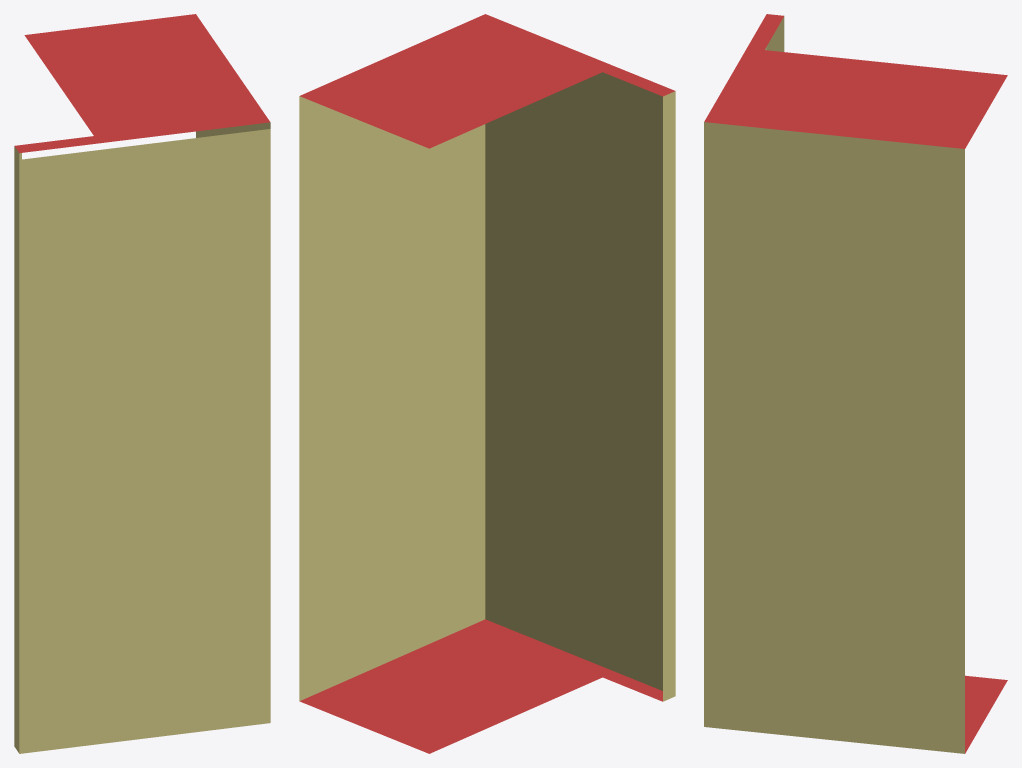
3 renders of one model, left to right at view 1: azimuth 30°, elevation 25°; view 2: azimuth 150°, elevation 25°; view 3: azimuth 270°, elevation 25°, orthographic.
Size of the model in its own units: 4.36 by 4.14 by 9.1.
